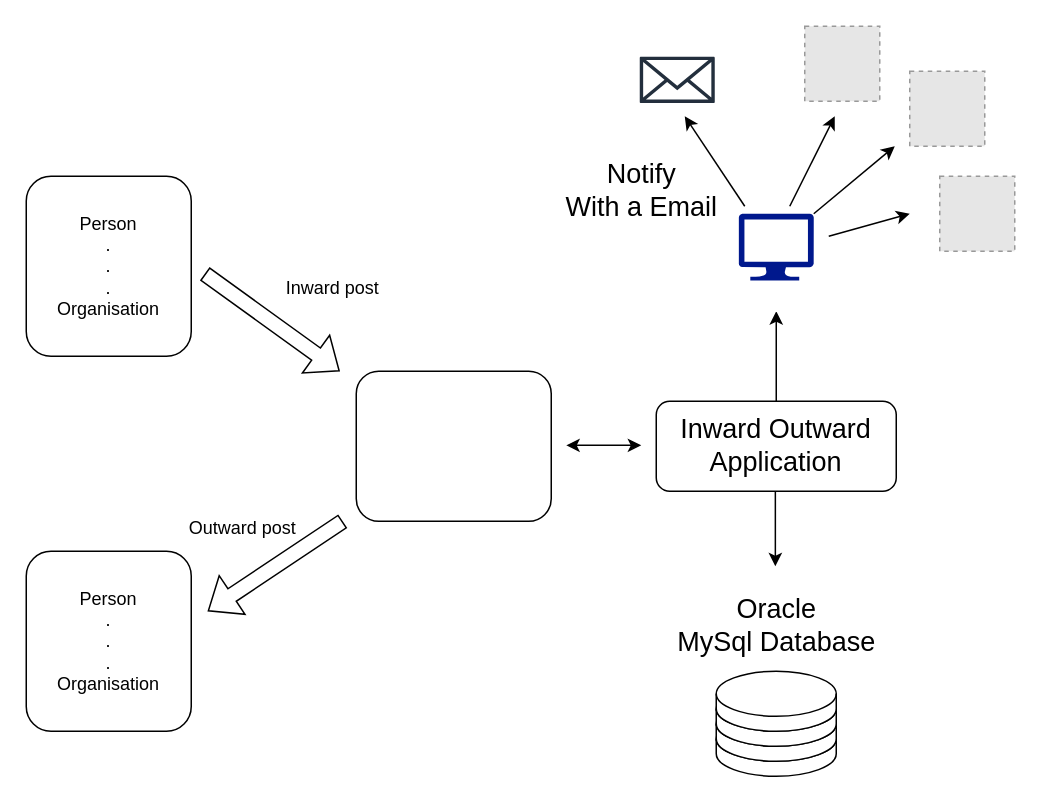
Image size: 1041x803. Some labels were removed from this diagram. Grey dashed boxes stand in for pictures. The centre of each missing label's shape, as x and y in pixels:
"Organisation" goes at point 453,445.
"Visualise" goes at point 775,295.
